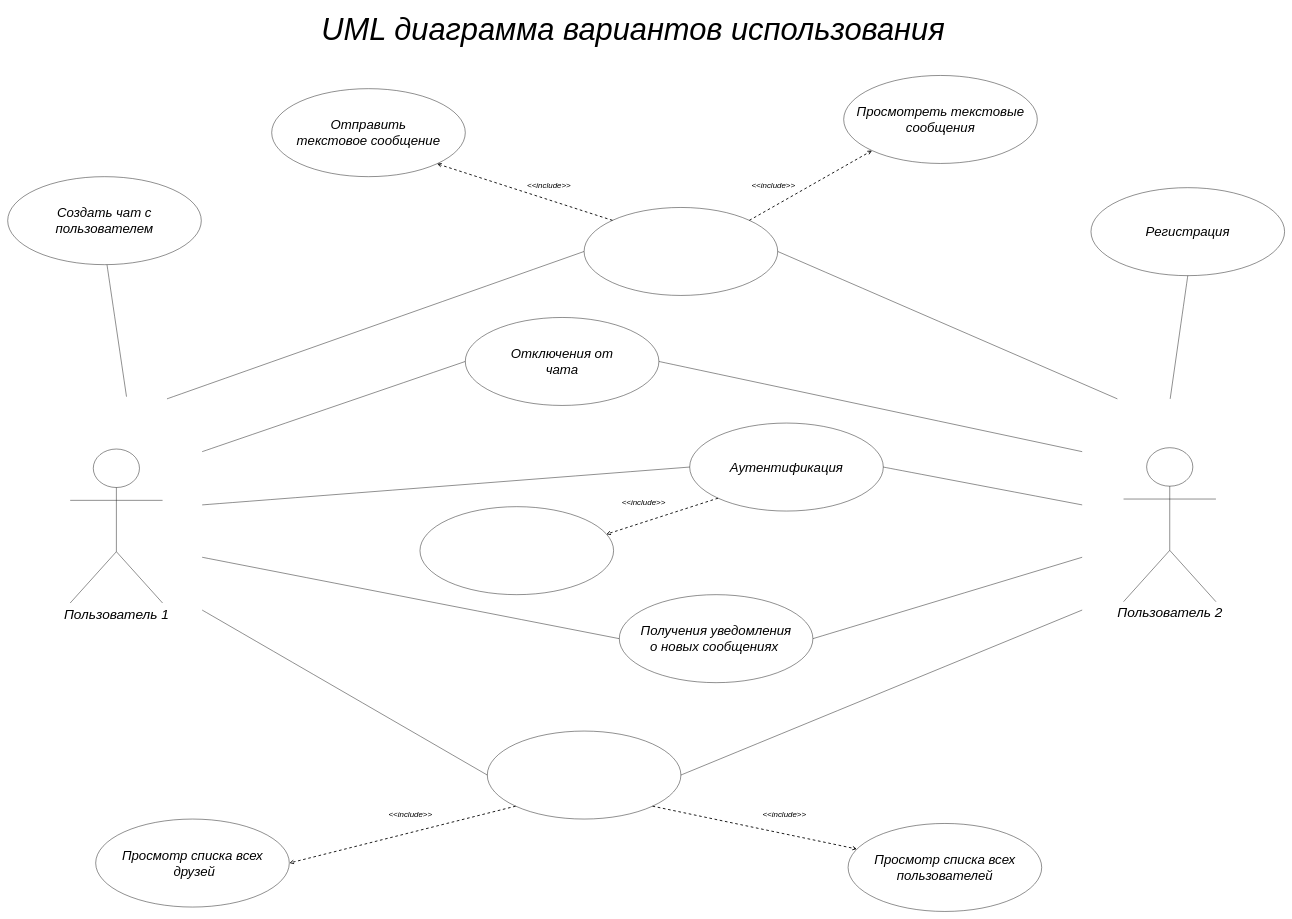
Image size: 1292x919. Some labels were removed from this diagram. The centre of each missing label's shape, as x and y in pixels:
Авторизация: pixel 517 550
Подключения к чату: pixel 681 251
Просмотр информации во всех чатах: pixel 584 775
